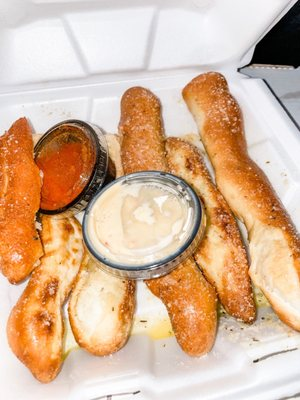curry: (1, 1, 300, 355)
